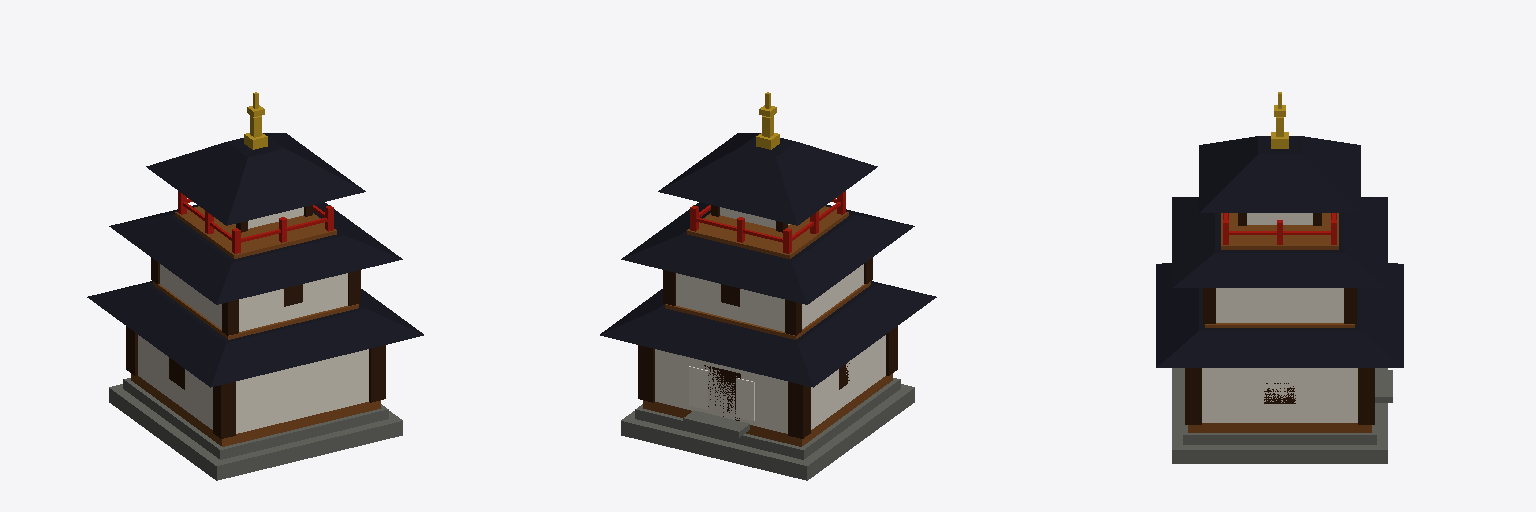
Rendered from sniper_t1.obj.
3 renders of one model, left to right at view 1: azimuth 30°, elevation 25°; view 2: azimuth 150°, elevation 25°; view 3: azimuth 270°, elevation 25°, orthographic.
Bounding box in the file's own units: 23 × 33.3 × 23.